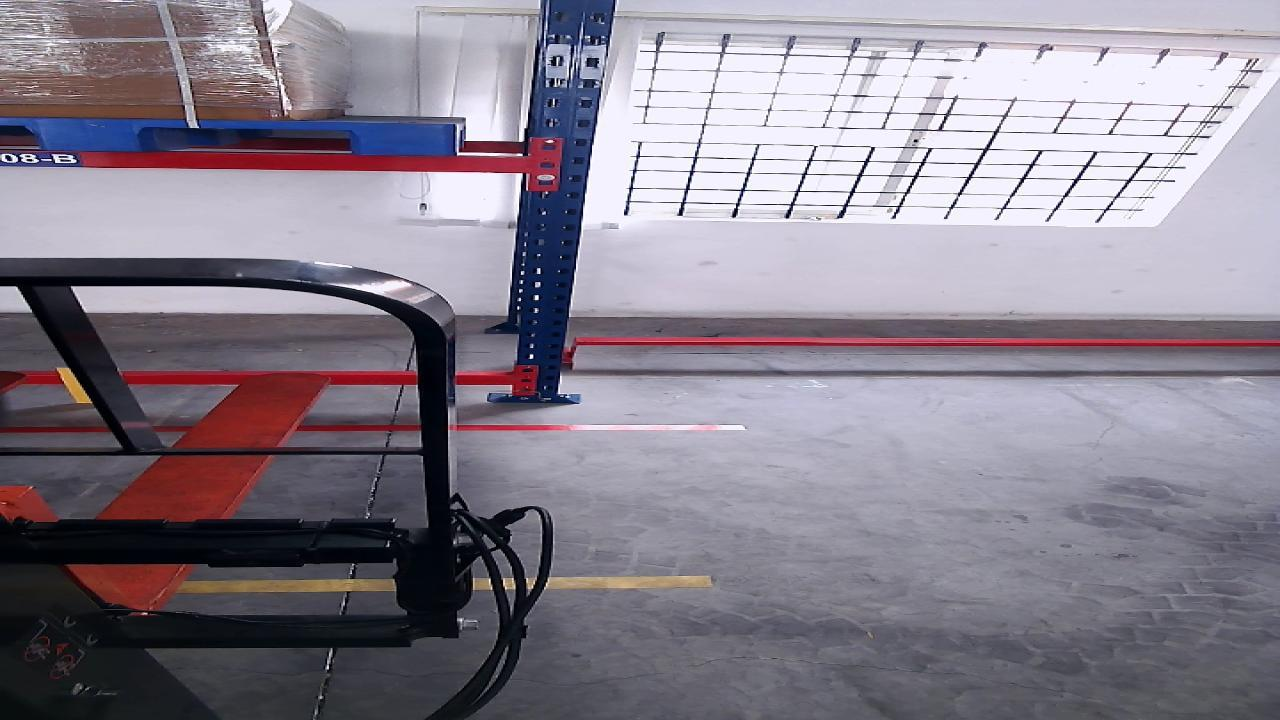h_rack: (0, 147, 523, 171), (31, 374, 510, 384)
red_line: (0, 422, 747, 434)
small_pallet: (8, 118, 450, 152)
yellow_line: (179, 573, 710, 592)
